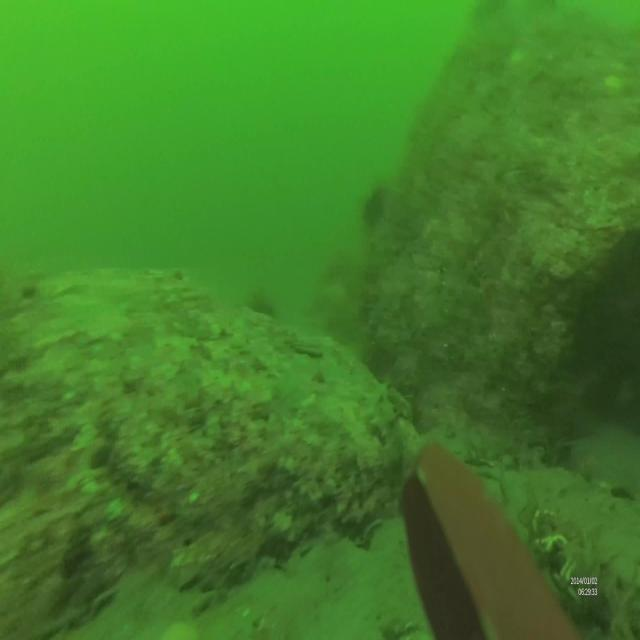echinus: (363, 184, 393, 232)
